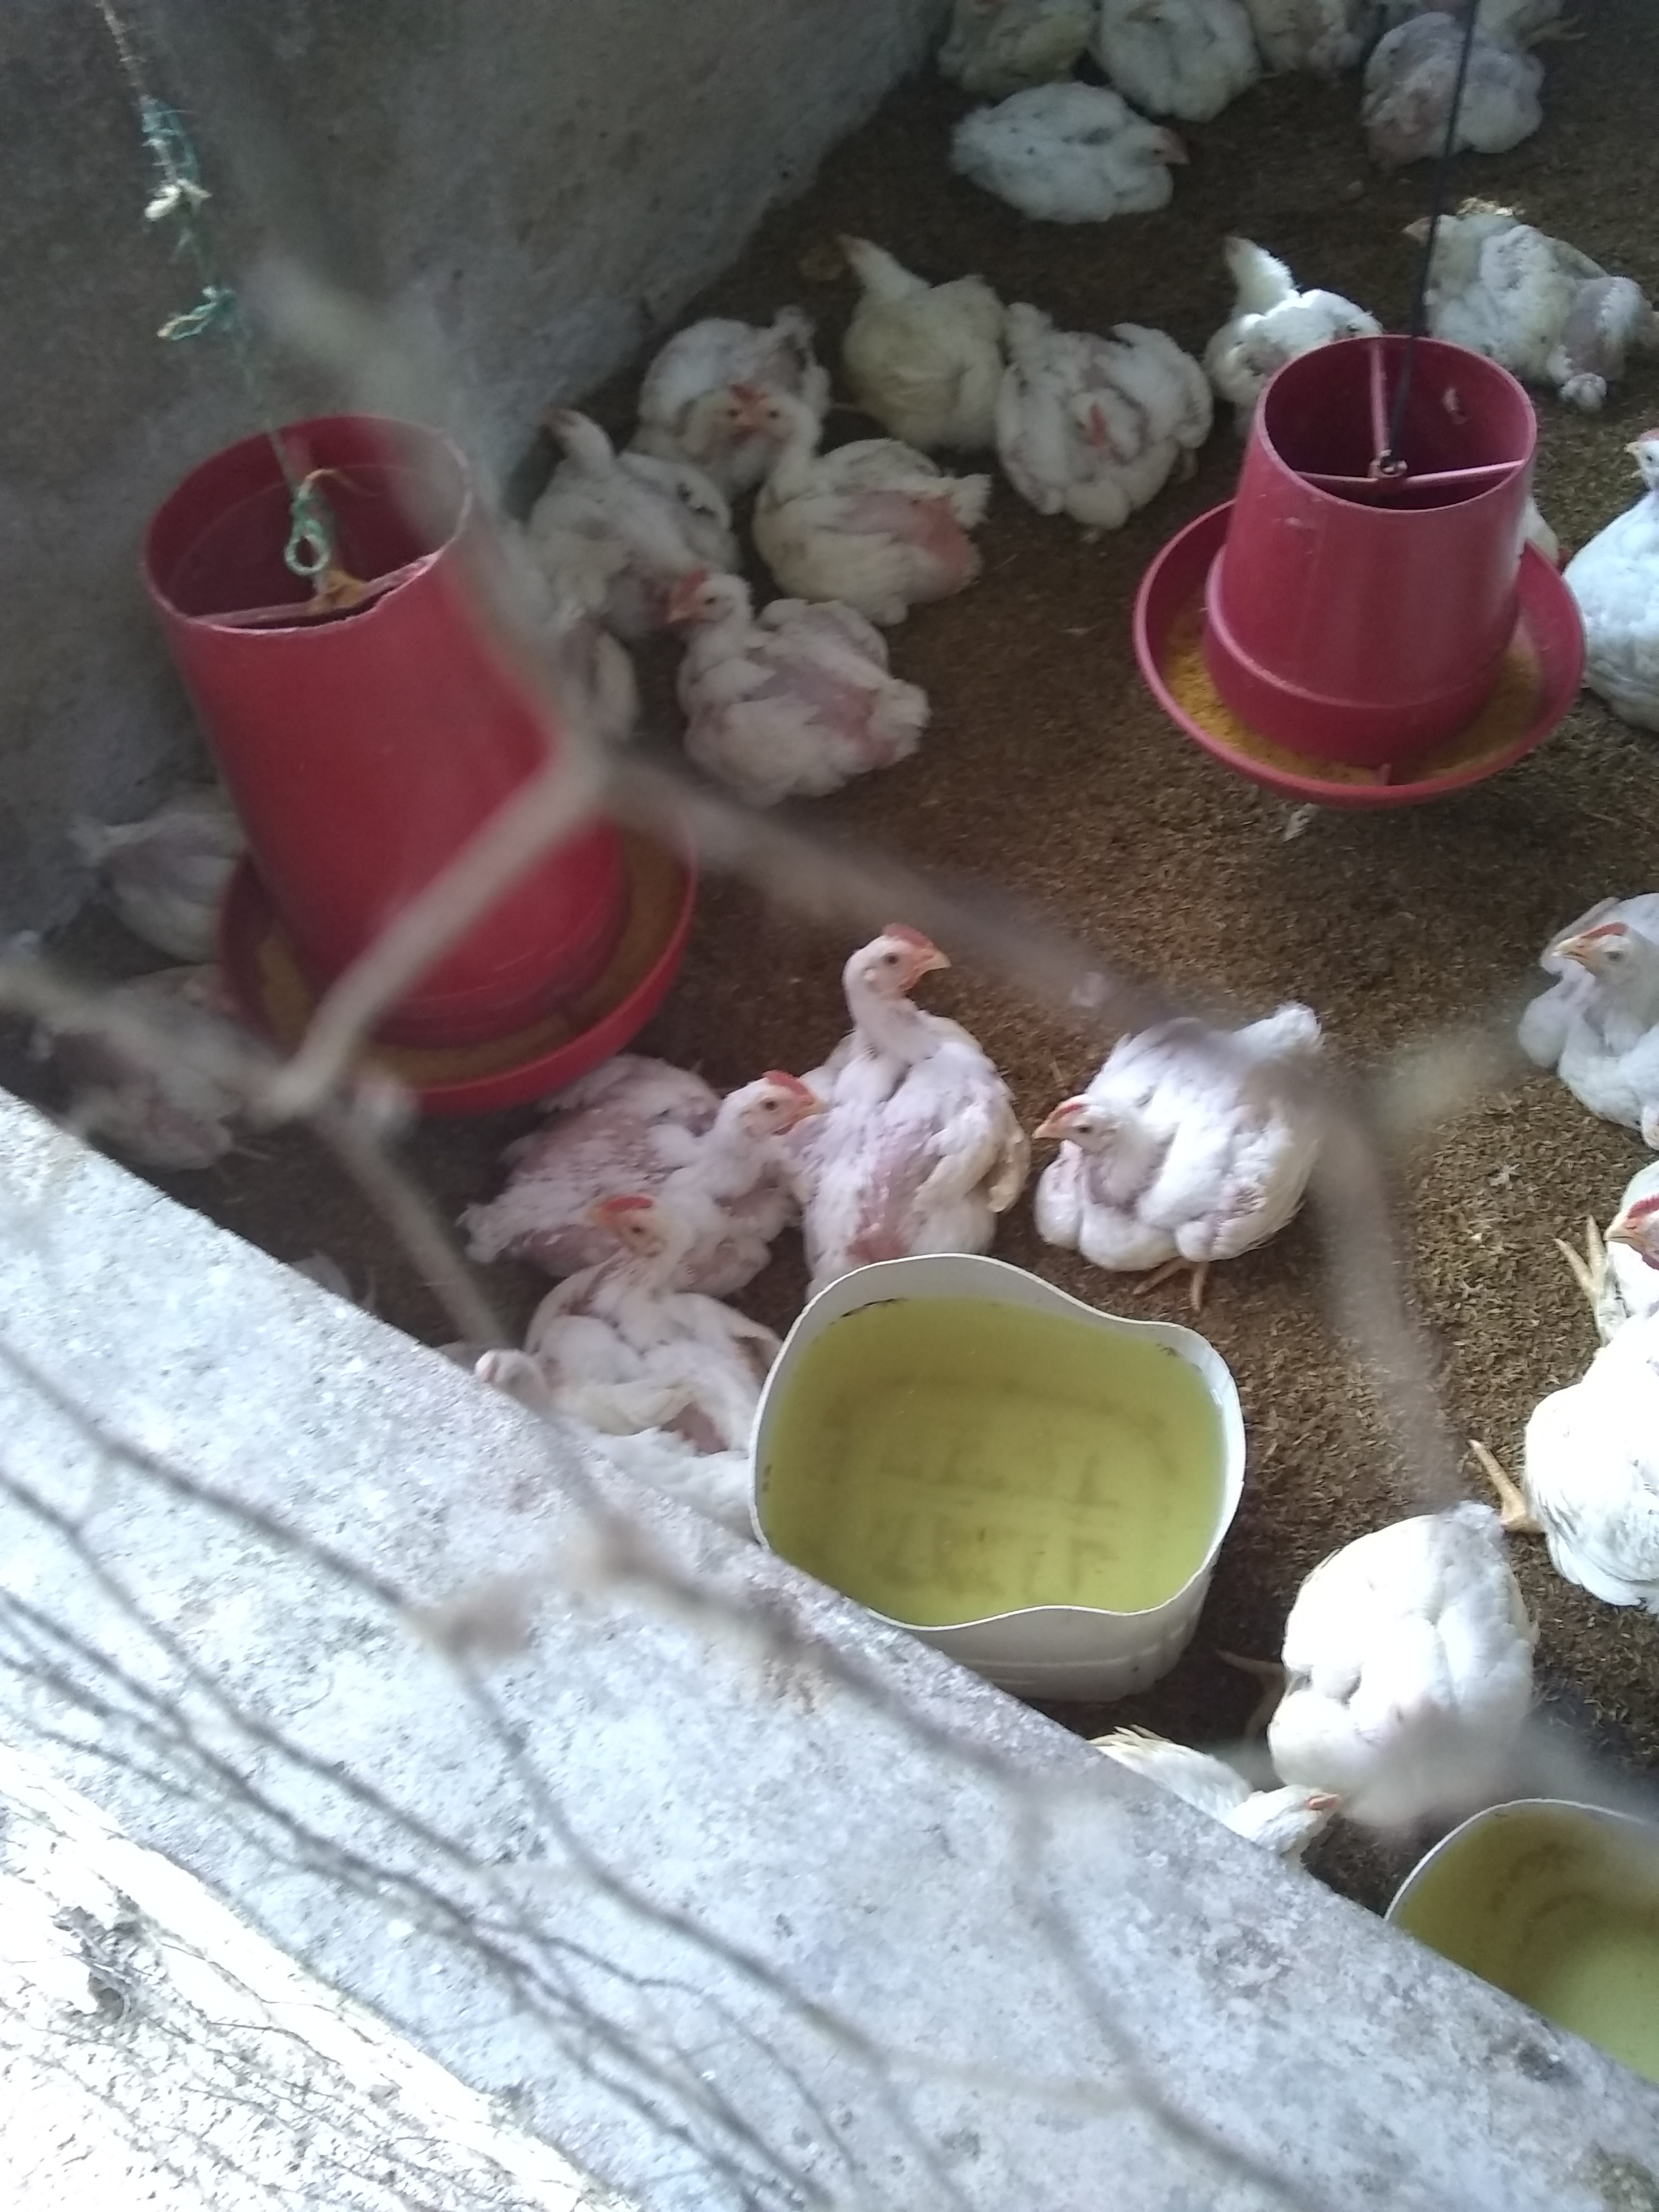Pollos: (1256, 1460, 1547, 1824), (460, 1271, 821, 1557), (427, 1038, 786, 1291), (1028, 975, 1333, 1271), (816, 902, 1028, 1271), (1499, 1155, 1659, 1609), (1058, 1663, 1324, 1932), (0, 965, 291, 1200), (1401, 143, 1647, 413), (647, 578, 924, 801), (488, 381, 741, 618), (979, 291, 1216, 531), (807, 192, 1000, 455), (767, 385, 976, 622), (1180, 206, 1373, 458), (1349, 0, 1586, 185), (610, 296, 836, 474), (1541, 425, 1659, 749), (1518, 892, 1659, 1144), (958, 64, 1164, 218), (66, 791, 267, 946), (1073, 0, 1270, 127)
